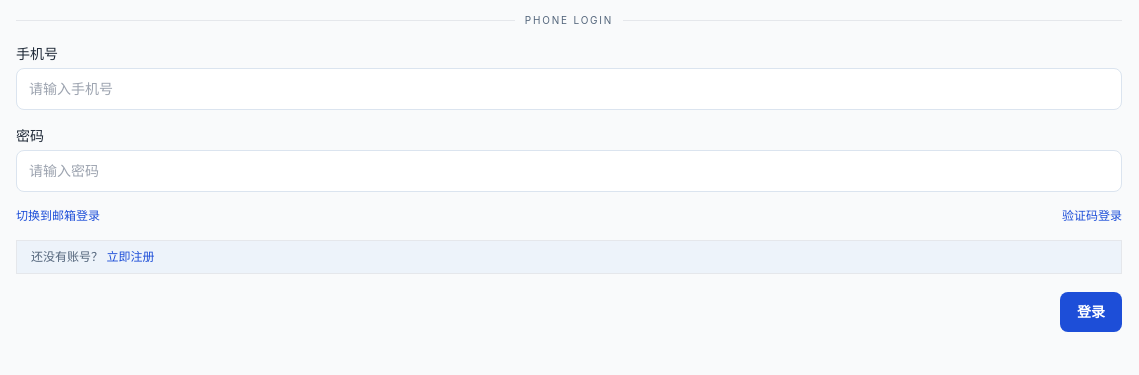
Scenario: AuthLoginForm transport ownership › clears an existing phone OTP session when a resend times out
Click the button "验证码登录" at (1092, 216), box [1062,208,1122,224]
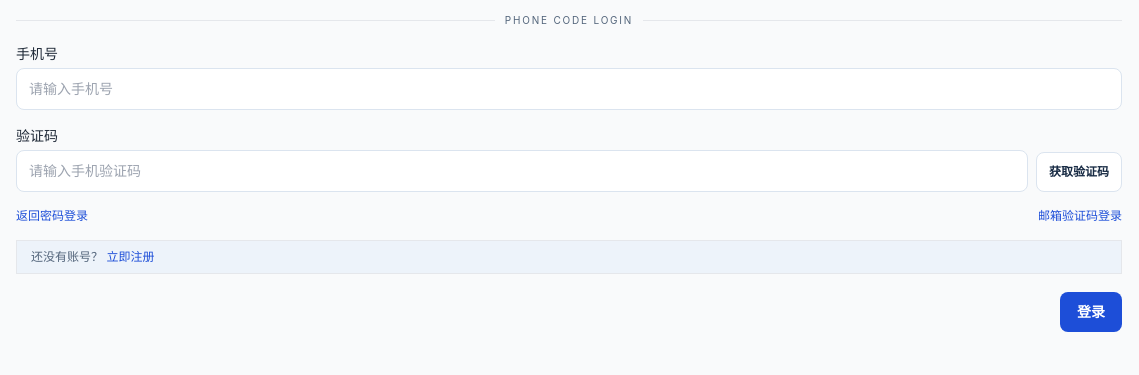
Type "13800138000" into the field with id "auth-login-phone-code" at (569, 89), box [16,68,1122,110]
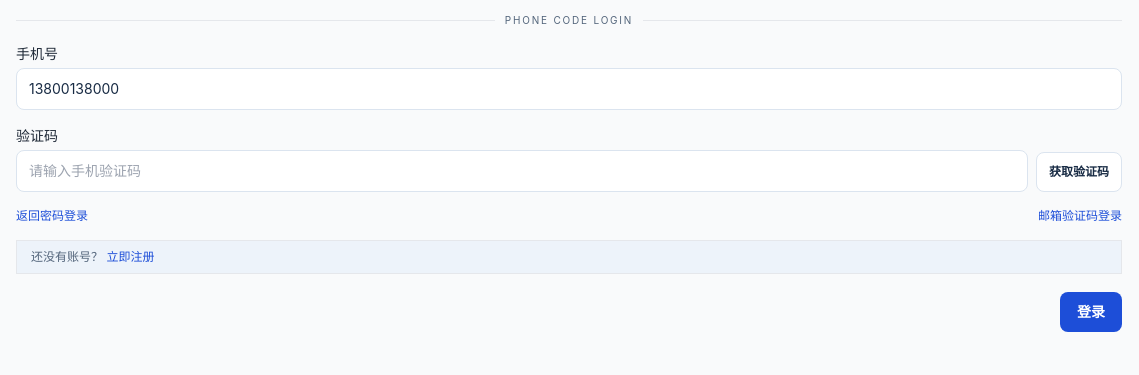
Click the button "获取验证码" at (1079, 172), box [1036,152,1122,192]
Wait 1000 ms
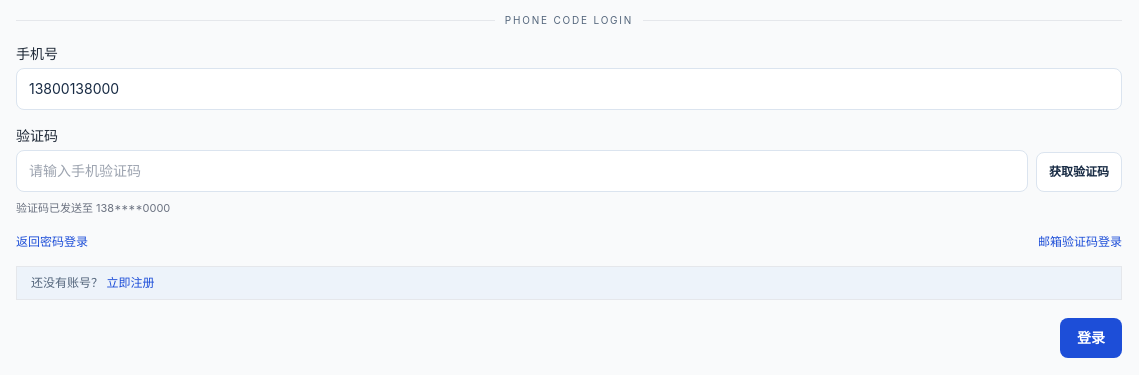
Type "2468" into the field with id "auth-login-code" at (522, 171), box [16,150,1028,192]
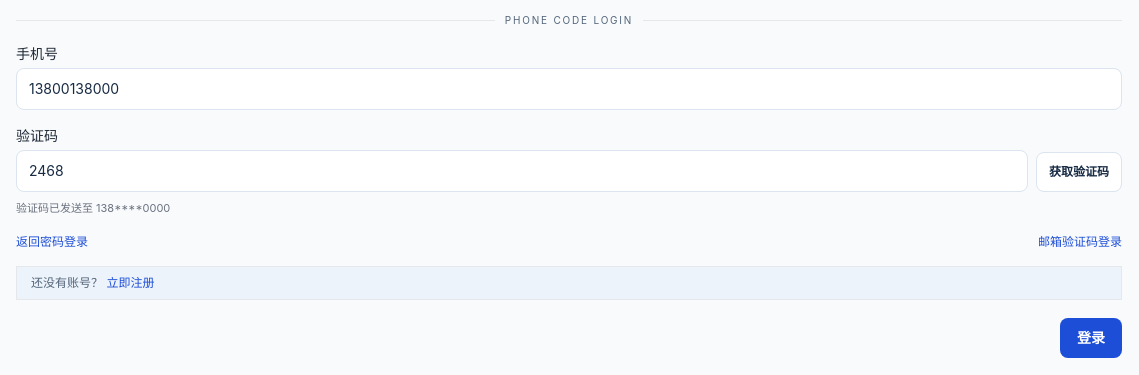
Click the button "获取验证码" at (1079, 172), box [1036,152,1122,192]
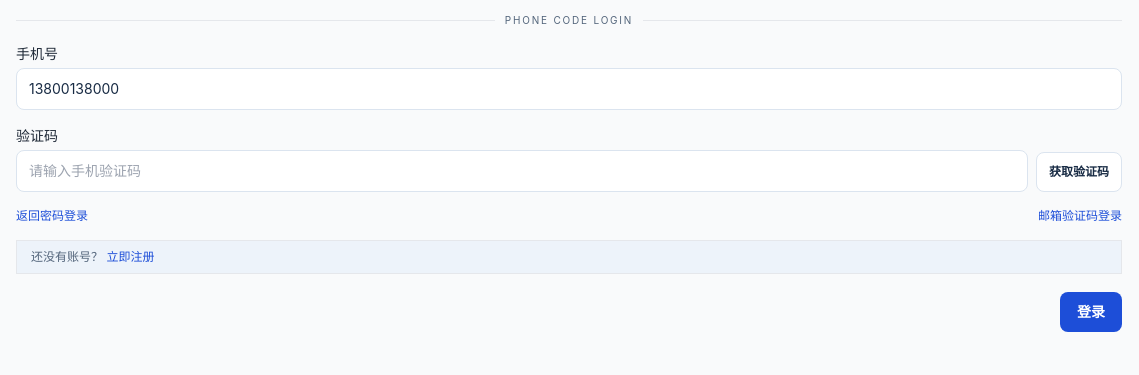
Now the text "138****0000" is gone
Now the field with id "auth-login-code" is empty, box [16,150,1028,192]
